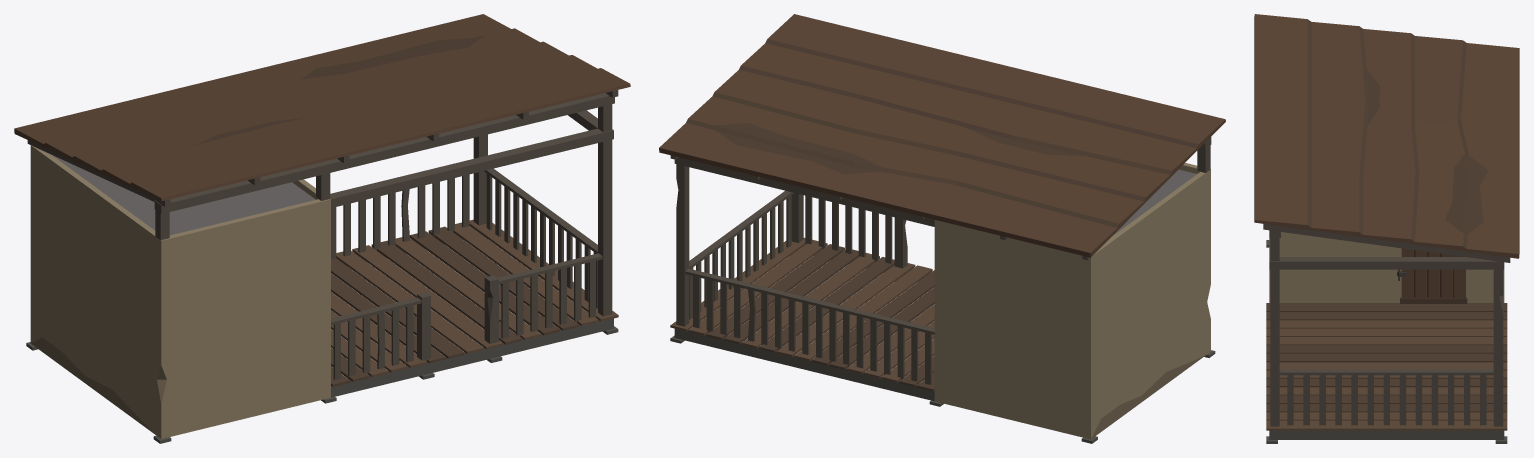
File: SM_Bldg_Farm_Shelter.fbx
The picture shows the model from 3 angles, left to right: view 1: azimuth 30°, elevation 25°; view 2: azimuth 150°, elevation 25°; view 3: azimuth 270°, elevation 25°; orthographic projection. The views are drawn at different scales.
Parts seen in each view (by area): view 1: SM_Bldg_Farm_Shelter; view 2: SM_Bldg_Farm_Shelter; view 3: SM_Bldg_Farm_Shelter, SM_Bldg_Farm_Shelter_Door.
Part boxes in pixels (bbox=[...]): SM_Bldg_Farm_Shelter: bbox=[14, 14, 630, 443]; SM_Bldg_Farm_Shelter: bbox=[659, 14, 1225, 443]; SM_Bldg_Farm_Shelter: bbox=[1254, 14, 1519, 443]; SM_Bldg_Farm_Shelter_Door: bbox=[1397, 248, 1467, 303].
Bounding box in the file's own units: 829 × 425 × 451.
